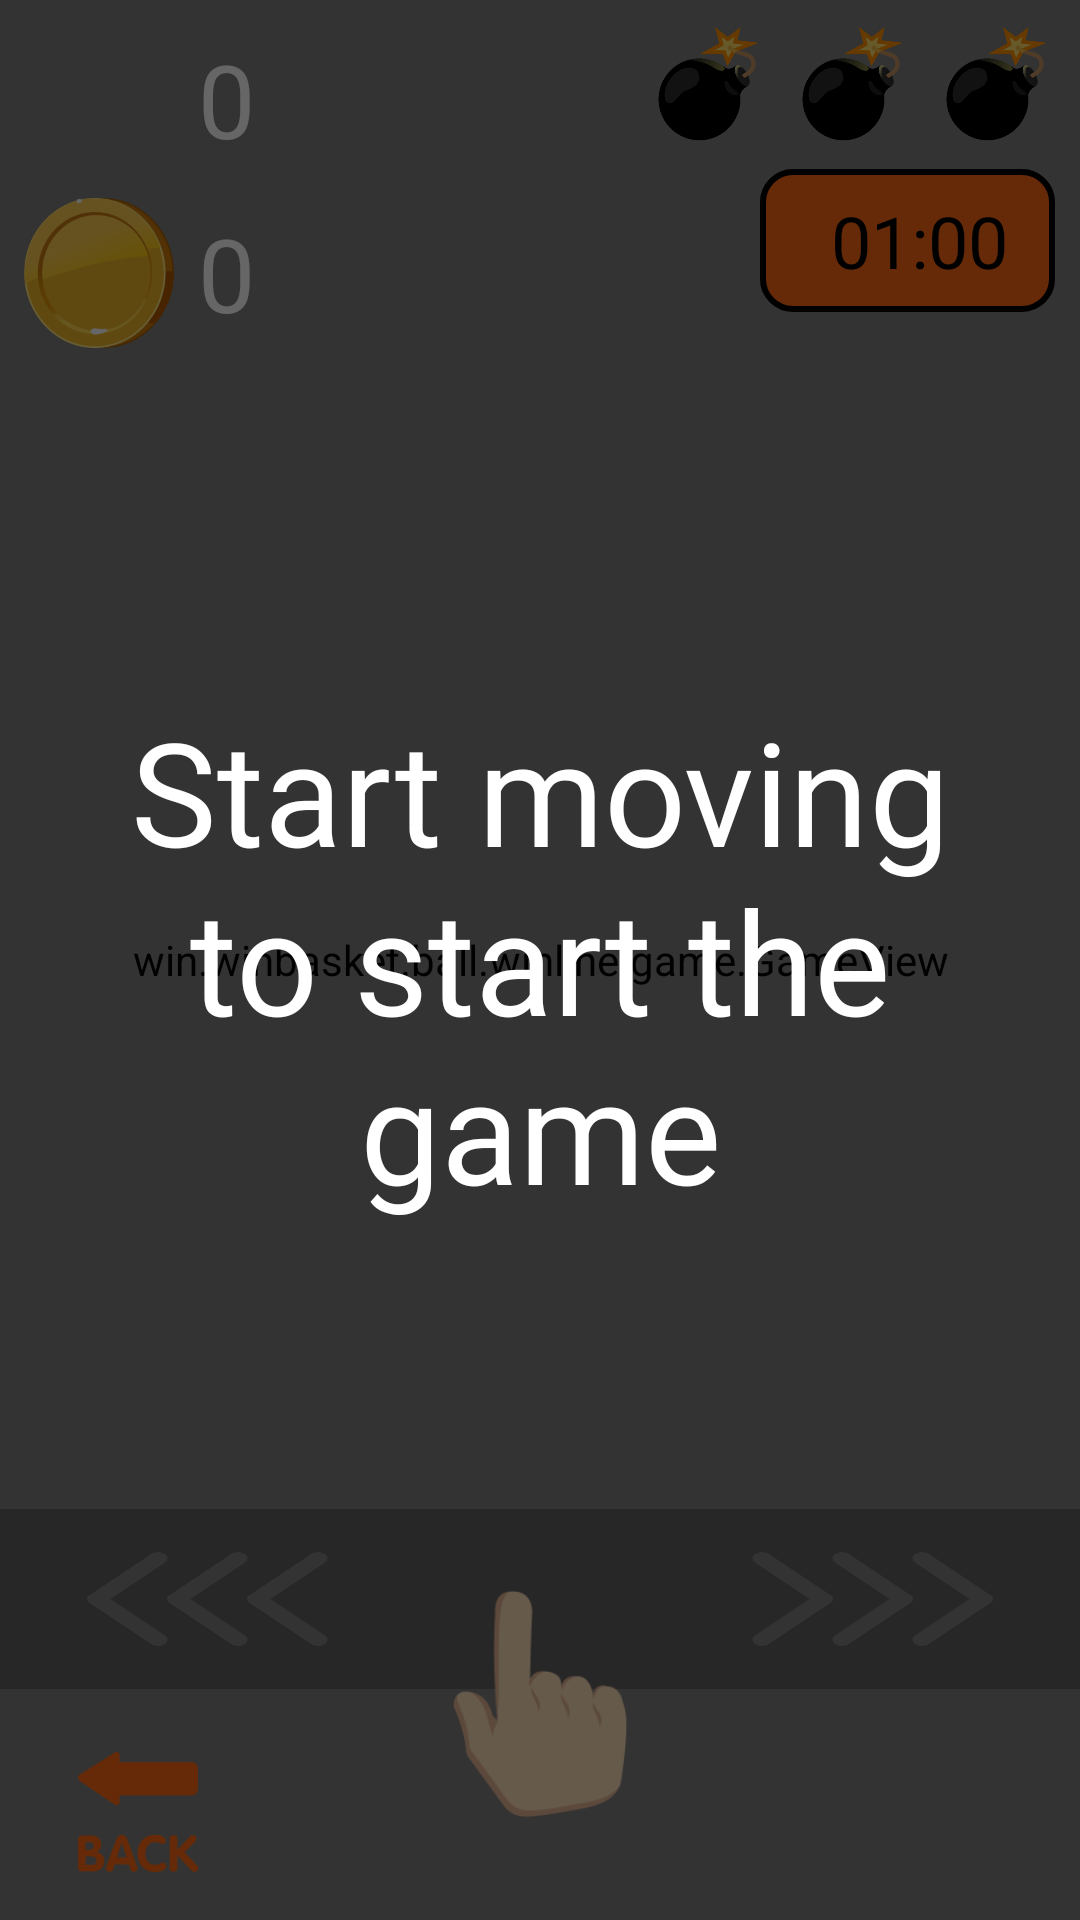

Locate icon controls on the screen. Image size 1080px×1920px, boxes as (x1, y1, x2, y2).
bomb: (659, 28, 757, 140), (803, 28, 901, 140), (947, 28, 1045, 140)
money: (24, 198, 174, 348)
tap: (454, 1592, 626, 1816)
